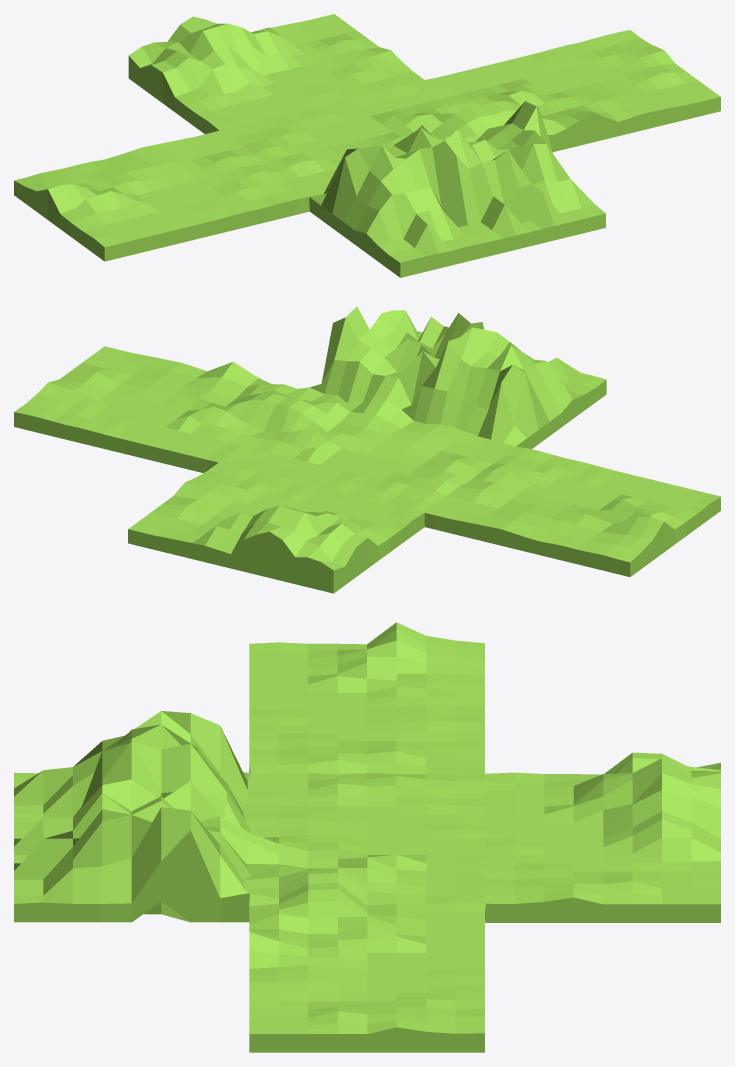
3 renders of one model, top to bottom at view 1: azimuth 30°, elevation 25°; view 2: azimuth 150°, elevation 25°; view 3: azimuth 270°, elevation 25°, orthographic. The views are drawn at different scales.
Visible parts, largest first — view 1: 2/2; view 2: 2/2; view 3: 2/2.
Boxes of the visible parts, x1=… form: 2/2: x1=14, y1=14, x2=720, y2=277; 2/2: x1=14, y1=306, x2=720, y2=593; 2/2: x1=14, y1=622, x2=720, y2=1052.
Bounding box in the file's own units: 15996 × 2235 × 12243.
